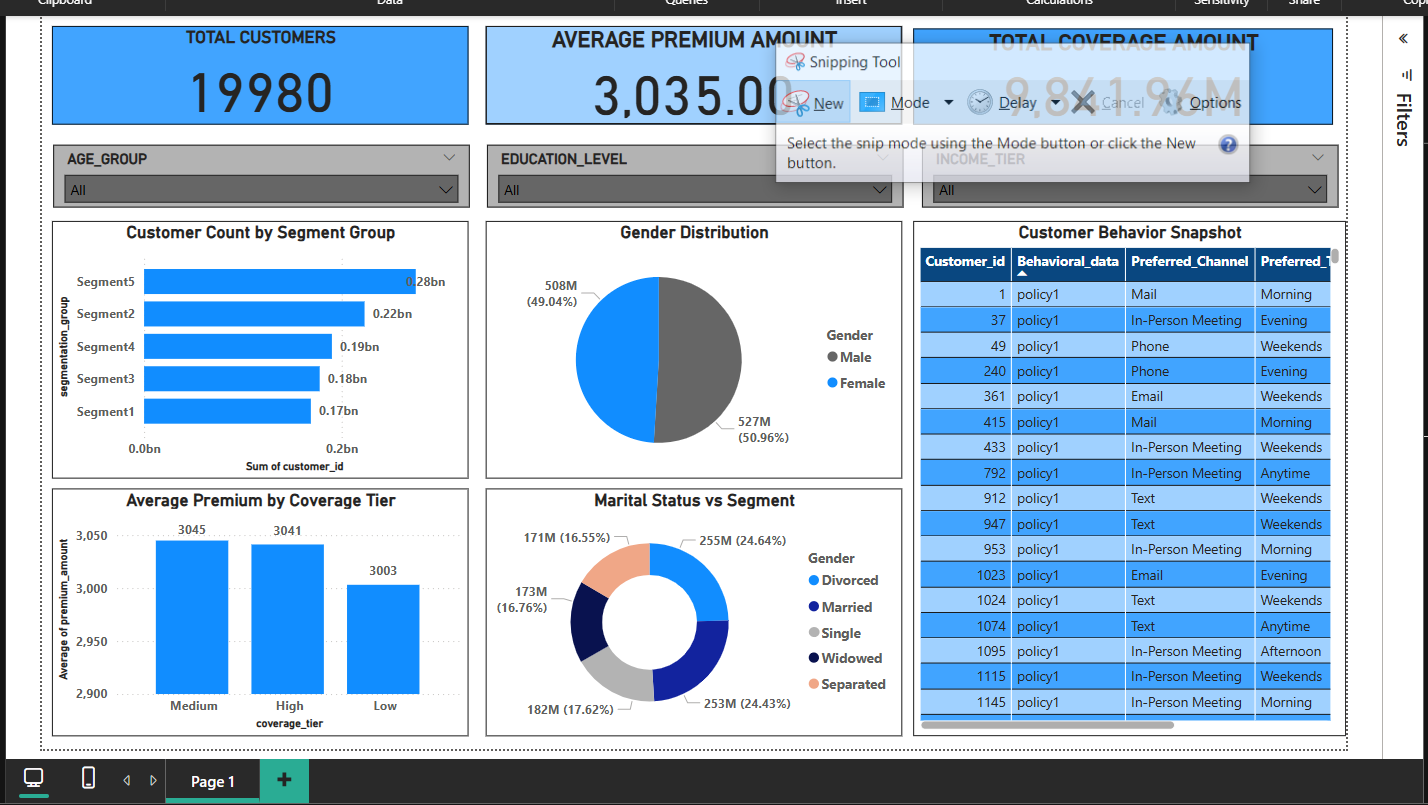

The page's visual inventory and layout, read from the dashboard file:
{"tool":"powerbi","page":{"name":"Page 1","canvas":[1280,720],"ordinal":0},"visuals":[{"type":"card","title":"TOTAL CUSTOMERS","fields":{"Values":["projects_github customer_segmentation.Total_Customers"]},"box":[9.8,9.8,408.6,96.9],"z":0},{"type":"card","title":"AVERAGE PREMIUM AMOUNT","fields":{"Values":["projects_github customer_segmentation.Average_premium"]},"box":[435.6,9.8,408.6,96.9],"z":1000},{"type":"card","title":"TOTAL COVERAGE AMOUNT","fields":{"Values":["projects_github customer_segmentation.Total_coverage_amount"]},"box":[855.2,12.3,412.3,94.5],"z":2000},{"type":"clusteredBarChart","title":"Customer Count by Segment Group","fields":{"Category":["projects_github customer_segmentation.segmentation_group"],"Y":["Sum(projects_github customer_segmentation.customer_id)"]},"box":[9.8,201.2,408.6,252.8],"z":3000},{"type":"clusteredColumnChart","title":"Average Premium by Coverage Tier","fields":{"Category":["projects_github customer_segmentation.coverage_tier"],"Y":["Avg(projects_github customer_segmentation.premium_amount)"]},"box":[9.8,463.8,408.6,242.9],"z":4000},{"type":"pieChart","title":"Gender Distribution","fields":{"Category":["projects_github customer_segmentation.gender"],"Y":["Sum(projects_github customer_segmentation.customer_id)"]},"box":[435.6,201.2,408.6,252.8],"z":5000},{"type":"donutChart","title":"Marital Status vs Segment","fields":{"Category":["projects_github customer_segmentation.marital_status"],"Y":["Sum(projects_github customer_segmentation.customer_id)"]},"box":[435.6,463.8,408.6,242.9],"z":6000},{"type":"tableEx","title":"Customer Behavior Snapshot","fields":{"Values":["projects_github customer_segmentation.customer_id","projects_github customer_segmentation.behavioral_data","projects_github customer_segmentation.preferred_channel","projects_github customer_segmentation.preferred_time","projects_github customer_segmentation.purchase_history.Variation.Date Hierarchy.Year","projects_github customer_segmentation.purchase_history.Variation.Date Hierarchy.Quarter","projects_github customer_segmentation.purchase_history.Variation.Date Hierarchy.Month","projects_github customer_segmentation.purchase_history.Variation.Date Hierarchy.Day"]},"box":[855.2,201.2,424.5,505.5],"z":7000},{"type":"slicer","fields":{"Values":["projects_github customer_segmentation.age_group"]},"box":[11,126.4,408.6,61.4],"z":8000},{"type":"slicer","fields":{"Values":["projects_github customer_segmentation.education_level"]},"box":[436.8,126.4,408.6,61.4],"z":8001},{"type":"slicer","fields":{"Values":["projects_github customer_segmentation.income_tier"]},"box":[863.8,126.4,408.6,61.4],"z":8002}]}

Visuals, with their boxes in screenshot pixels (x1, y1, x2, y2):
"TOTAL CUSTOMERS" card: 3:14:437:117
"AVERAGE PREMIUM AMOUNT" card: 455:14:888:117
"TOTAL COVERAGE AMOUNT" card: 900:17:1338:117
"Customer Count by Segment Group" clusteredBarChart: 3:217:437:486
"Average Premium by Coverage Tier" clusteredColumnChart: 3:496:437:754
"Gender Distribution" pieChart: 455:217:888:486
"Marital Status vs Segment" donutChart: 455:496:888:754
"Customer Behavior Snapshot" tableEx: 900:217:1351:754
slicer - projects_github customer_segmentation.age_group: 4:138:438:203
slicer - projects_github customer_segmentation.education_level: 456:138:890:203
slicer - projects_github customer_segmentation.income_tier: 909:138:1343:203
